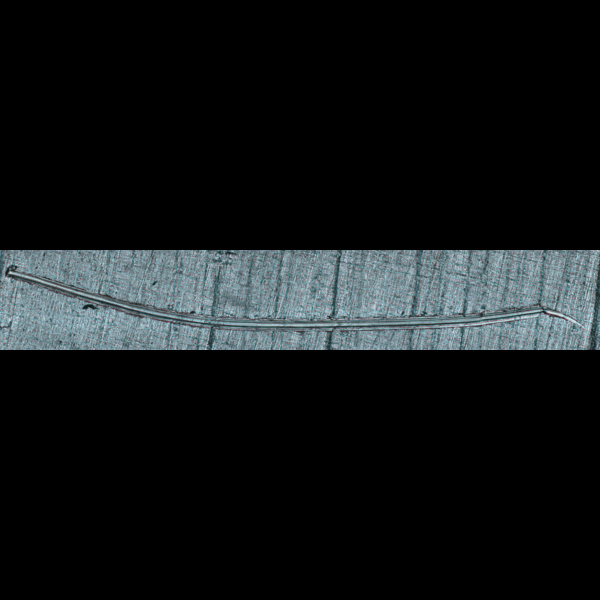d: (3, 260, 588, 335)
